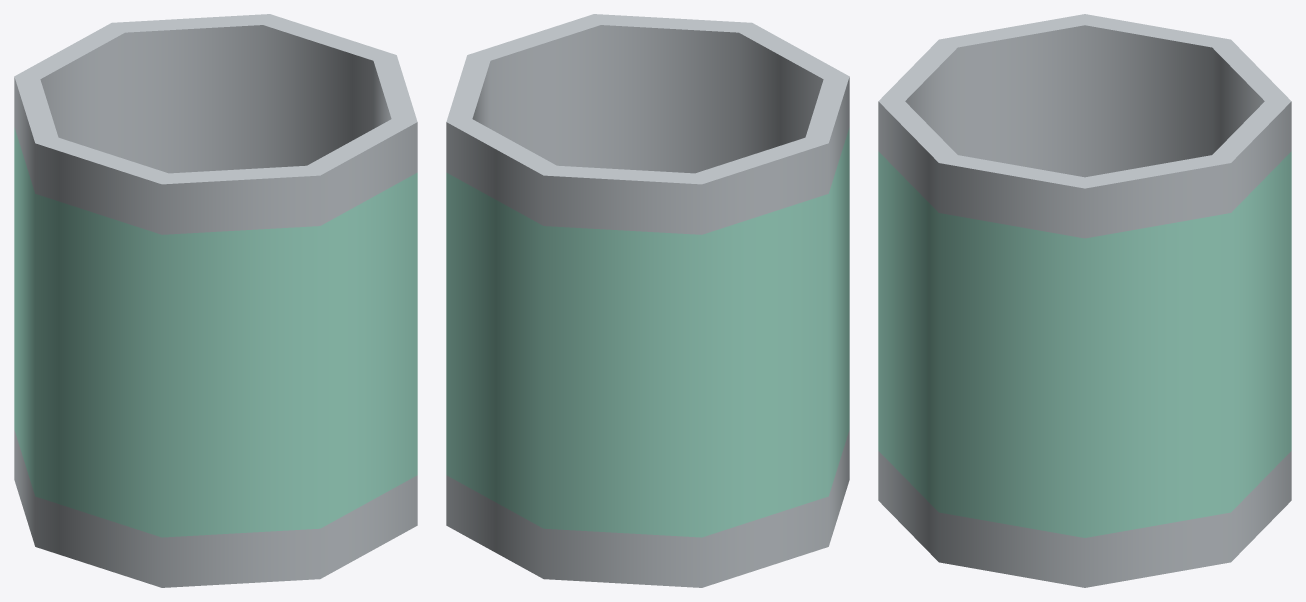
Rendered from RollableCan.fbx.
3 views of the same model, side by side, from view 1: azimuth 30°, elevation 25°; view 2: azimuth 150°, elevation 25°; view 3: azimuth 270°, elevation 25° (orthographic).
Parts seen in each view (by area): view 1: canOpen; view 2: canOpen; view 3: canOpen.
Part boxes in pixels (bbox=[...]): canOpen: bbox=[14, 14, 417, 587]; canOpen: bbox=[446, 14, 849, 587]; canOpen: bbox=[878, 14, 1291, 587].
Bounding box in the file's own units: 30 × 32 × 30.
